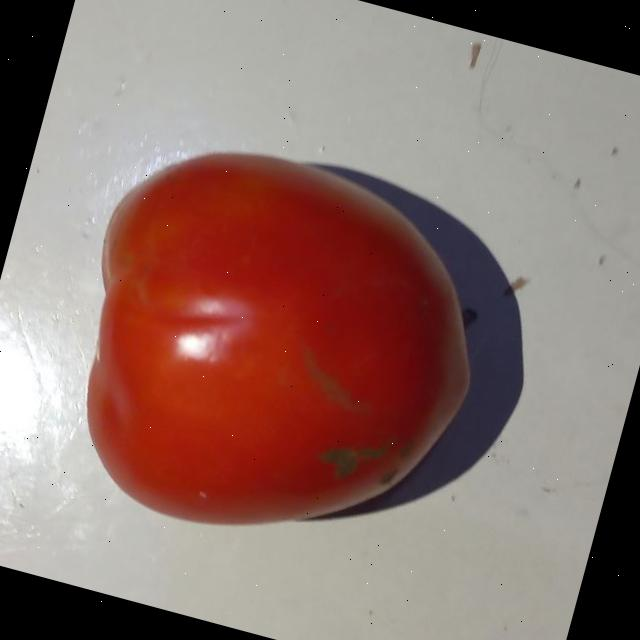tomato: (29, 96, 556, 619)
